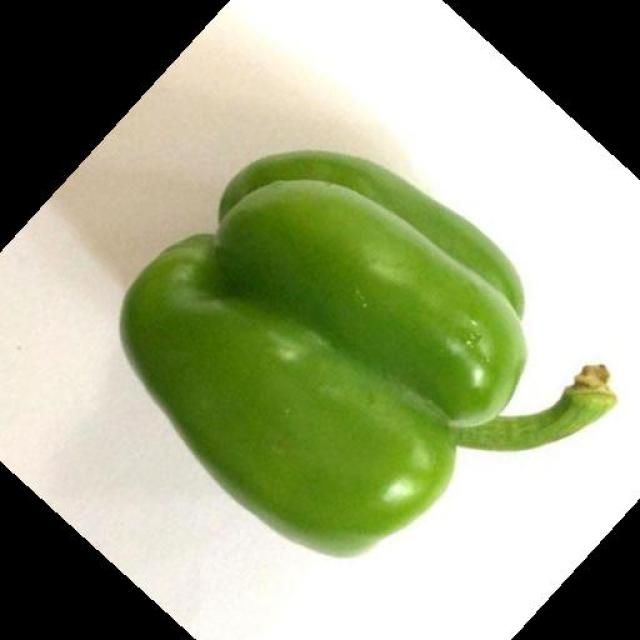Fresh_Capsicum: (133, 153, 569, 533)
